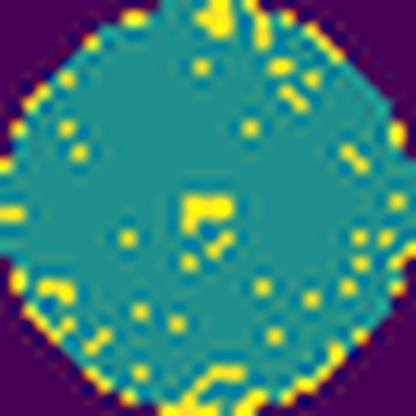Center: (176, 182, 242, 240)
